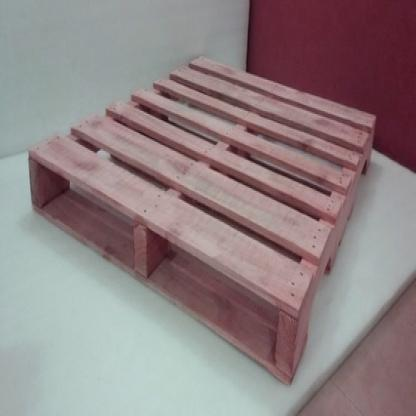BoxFace: (27, 54, 378, 390)
